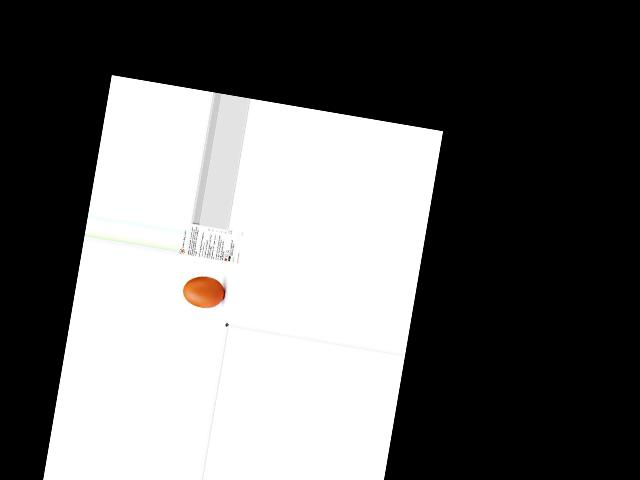egg: (181, 273, 226, 310)
